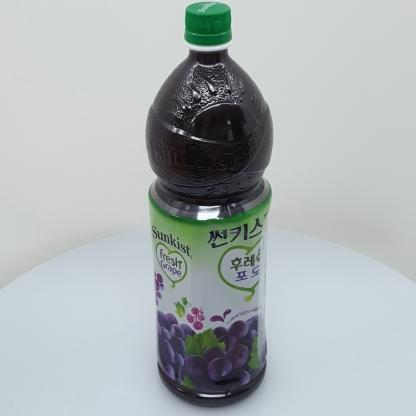-------50_1-5L: (144, 2, 273, 408)
